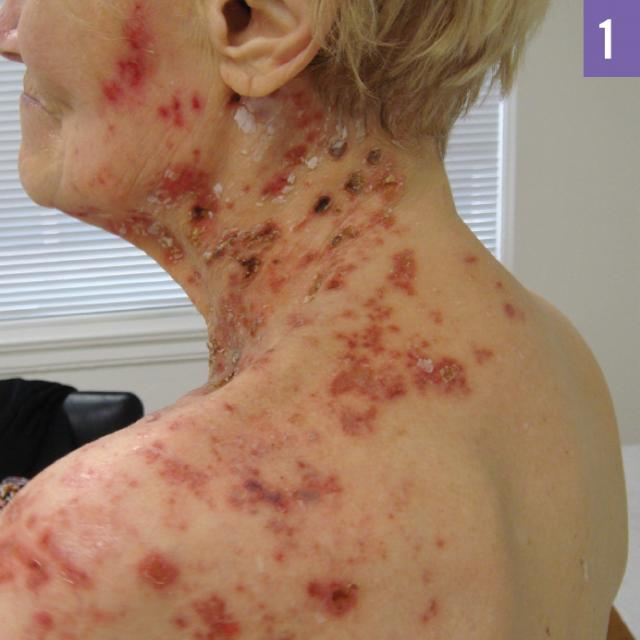herpes zoster: (0, 5, 511, 640)
